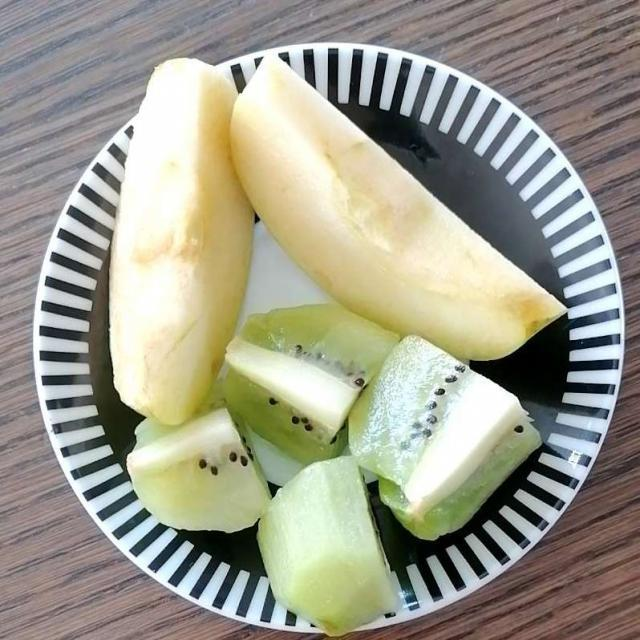apple: (106, 56, 558, 427)
kiwi: (137, 314, 535, 627)
